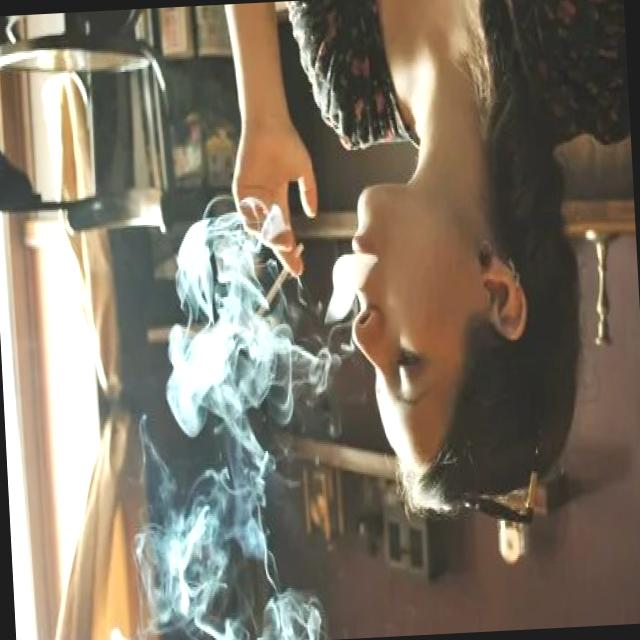smoke: (246, 232, 310, 332)
